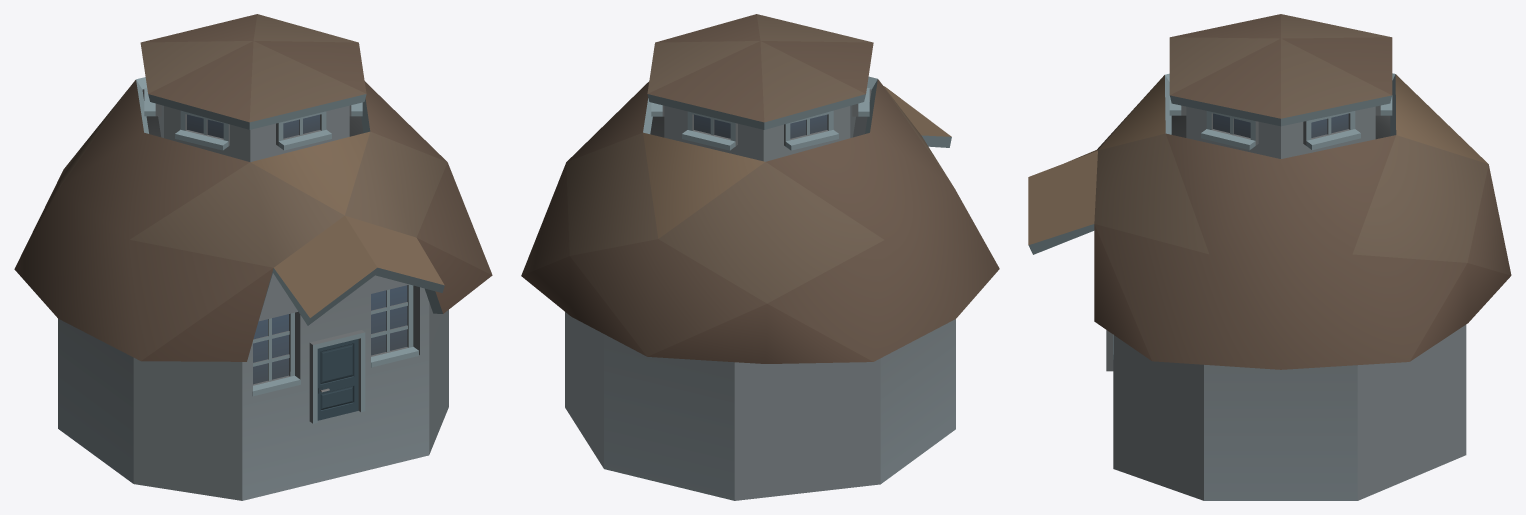
The model's file is buildings-residential-geodesichome_v1.glb.
3 views of the same model, side by side, from view 1: azimuth 30°, elevation 25°; view 2: azimuth 150°, elevation 25°; view 3: azimuth 270°, elevation 25° (orthographic).
Parts seen in each view (by area): view 1: GeodesicHome_v1_base, GeodesicHome_v1_windowRefl; view 2: GeodesicHome_v1_base, GeodesicHome_v1_windowRefl; view 3: GeodesicHome_v1_base, GeodesicHome_v1_windowRefl.
Boxes of the visible parts, x1,y1,x2,y2 form: GeodesicHome_v1_base: (14, 14, 492, 500); GeodesicHome_v1_windowRefl: (187, 114, 407, 384); GeodesicHome_v1_base: (521, 14, 999, 500); GeodesicHome_v1_windowRefl: (694, 114, 827, 138); GeodesicHome_v1_base: (1028, 14, 1511, 500); GeodesicHome_v1_windowRefl: (1213, 113, 1348, 137).
Bounding box in the file's own units: 12.62 × 11.63 × 13.26.
